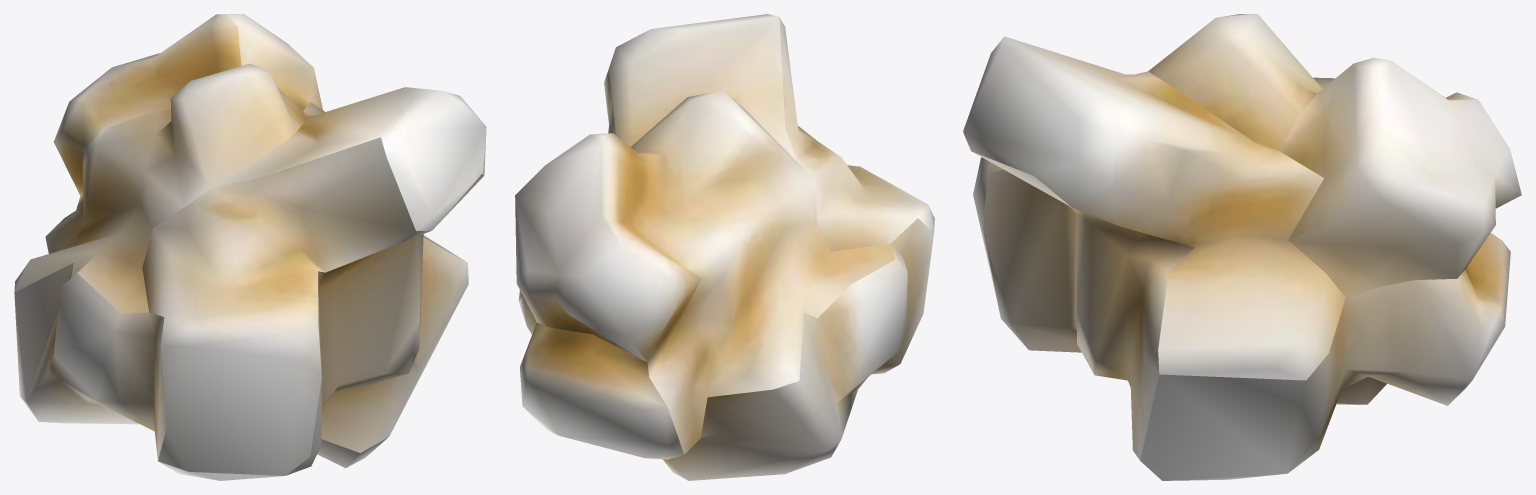
The model's file is sulphur.worldmodel.glb.
3 renders of one model, left to right at view 1: azimuth 30°, elevation 25°; view 2: azimuth 150°, elevation 25°; view 3: azimuth 270°, elevation 25°, orthographic. The views are drawn at different scales.
Visible parts, largest first — view 1: sulphur_LOD0; view 2: sulphur_LOD0; view 3: sulphur_LOD0.
Boxes of the visible parts, bbox=[...] form: sulphur_LOD0: bbox=[14, 14, 486, 480]; sulphur_LOD0: bbox=[515, 14, 934, 480]; sulphur_LOD0: bbox=[963, 14, 1521, 480].
Bounding box in the file's own units: 0.1903 × 0.1945 × 0.2324.
1 material, 1 textured.
